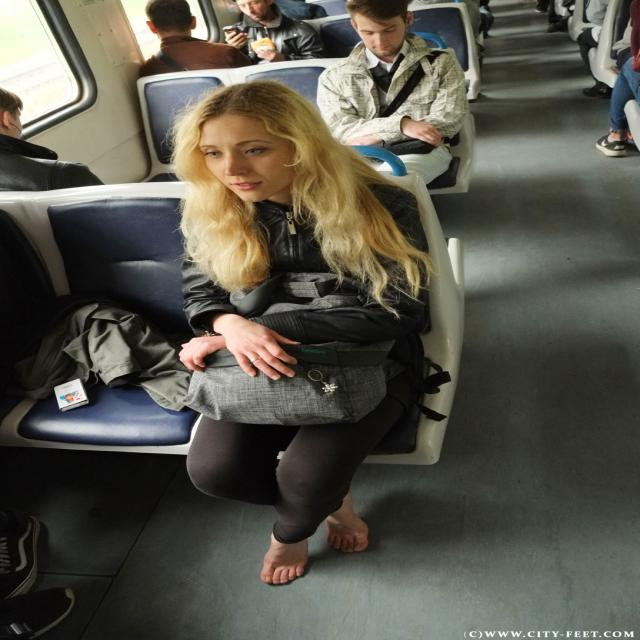Barefoots: (324, 488, 369, 552), (260, 532, 308, 584)
